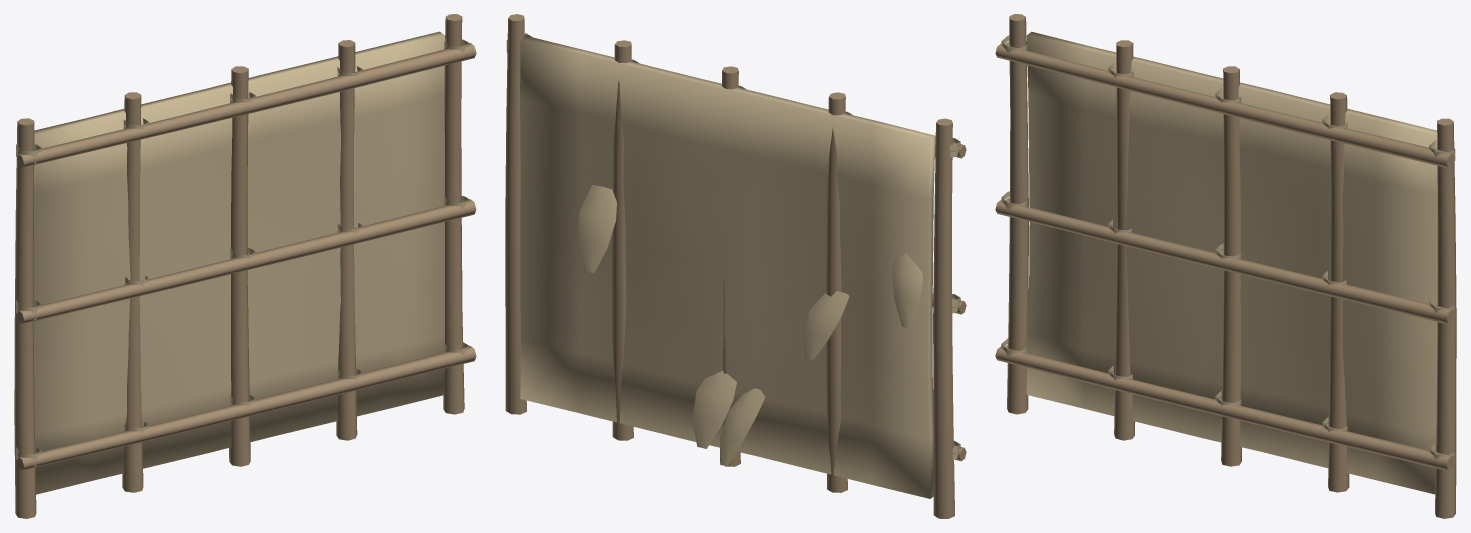
File: BLD_Wall.fbx
3 renders of one model, left to right at view 1: azimuth 30°, elevation 25°; view 2: azimuth 150°, elevation 25°; view 3: azimuth 330°, elevation 25°, orthographic.
Visible parts, largest first — view 1: Wall_LOD0; view 2: Wall_LOD0; view 3: Wall_LOD0.
Boxes of the visible parts, box(x1,y1,x2,y2) form: Wall_LOD0: box(14, 14, 476, 518); Wall_LOD0: box(505, 14, 966, 518); Wall_LOD0: box(995, 14, 1456, 518).
Size of what is drawn, in the model's own units: 3 by 2.49 by 0.3342.
